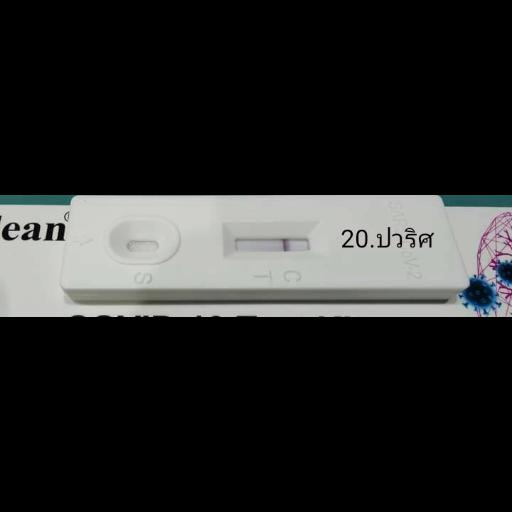Neg: (59, 194, 468, 286)
